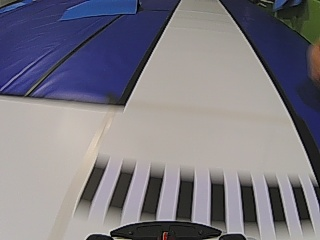CrossWalk: (80, 165, 304, 219)
